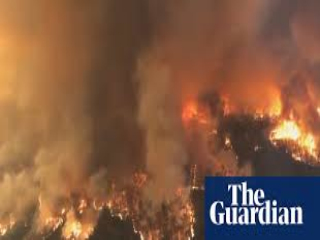fire: (268, 113, 315, 154), (234, 91, 292, 116)
smoke: (42, 53, 115, 219), (123, 46, 197, 202)
